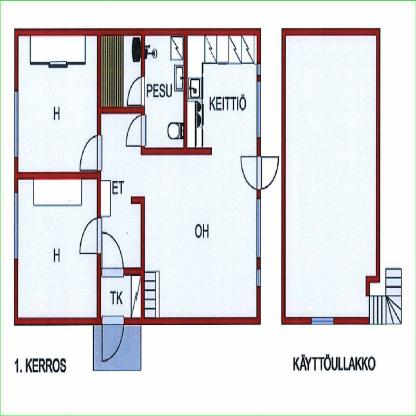door: (239, 158, 279, 193), (102, 315, 126, 364), (101, 231, 124, 278), (77, 219, 103, 256), (78, 136, 102, 172), (125, 117, 146, 147), (125, 74, 144, 106)
window: (13, 92, 19, 153), (14, 194, 19, 262), (257, 83, 262, 139), (310, 318, 334, 328), (256, 198, 260, 257), (255, 270, 262, 283), (256, 61, 260, 73)
zone: (287, 33, 374, 320), (141, 153, 256, 320), (18, 180, 97, 318), (19, 35, 96, 174), (188, 34, 259, 156), (101, 116, 142, 267), (144, 36, 182, 143), (101, 33, 141, 108), (94, 327, 139, 369), (102, 278, 140, 315)
